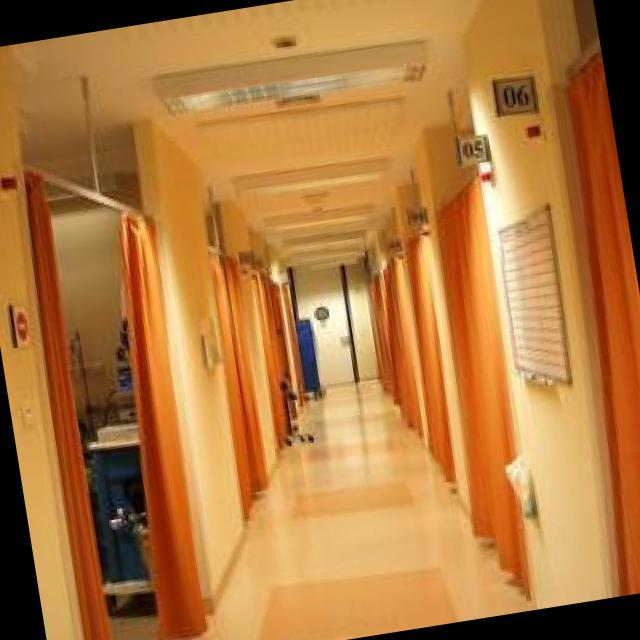bag occluded: (502, 453, 536, 517)
bar stool: (19, 163, 130, 210)
ceiling beam: (11, 0, 476, 265)
ceiling vent: (155, 38, 428, 116), (232, 155, 385, 196), (261, 201, 371, 230), (279, 227, 363, 250)
certain: (432, 168, 528, 593)
chart: (195, 315, 218, 366)
clock crop: (311, 304, 327, 320)
curtain crop: (20, 168, 110, 640), (565, 35, 640, 595), (116, 210, 205, 640), (205, 247, 268, 520), (403, 231, 454, 482), (380, 261, 422, 438), (251, 265, 290, 448)
equipement: (67, 312, 159, 617)
floor -X: (161, 377, 535, 640)
light switch: (17, 404, 32, 426), (338, 333, 349, 345)
object: (273, 324, 313, 444)
red light: (522, 121, 544, 138), (0, 172, 17, 188), (479, 169, 493, 183), (419, 227, 428, 235)
sign: (489, 71, 538, 118), (450, 132, 489, 164), (6, 304, 30, 348), (403, 202, 426, 225), (235, 248, 253, 265), (386, 237, 400, 251)
tile wall: (252, 565, 456, 640), (288, 479, 412, 517), (299, 436, 393, 460), (317, 410, 378, 427)
wall clock: (450, 0, 614, 607), (129, 117, 246, 614), (0, 45, 83, 640), (40, 167, 138, 395), (216, 195, 277, 475), (283, 253, 377, 386)
whiteboard: (493, 201, 571, 385)
